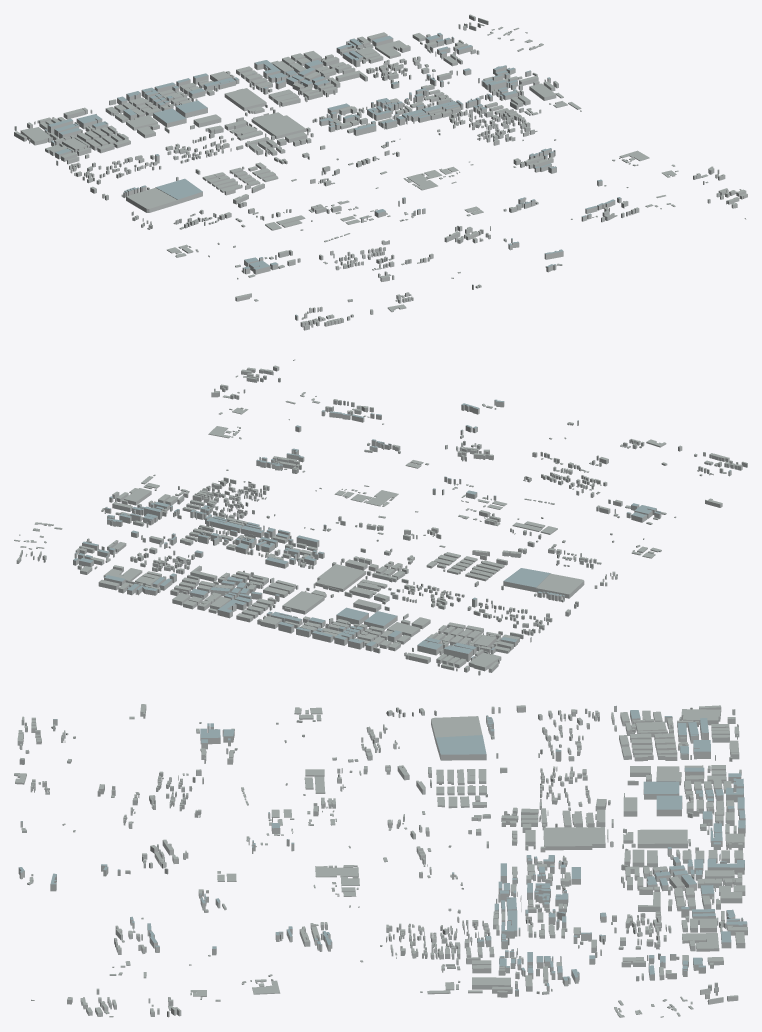
File: far.glb
The picture shows the model from 3 angles, top to bottom: view 1: azimuth 30°, elevation 25°; view 2: azimuth 150°, elevation 25°; view 3: azimuth 270°, elevation 25°; orthographic projection. The views are drawn at different scales.
Size of the model in its own units: 2120 by 32.66 by 2127.
